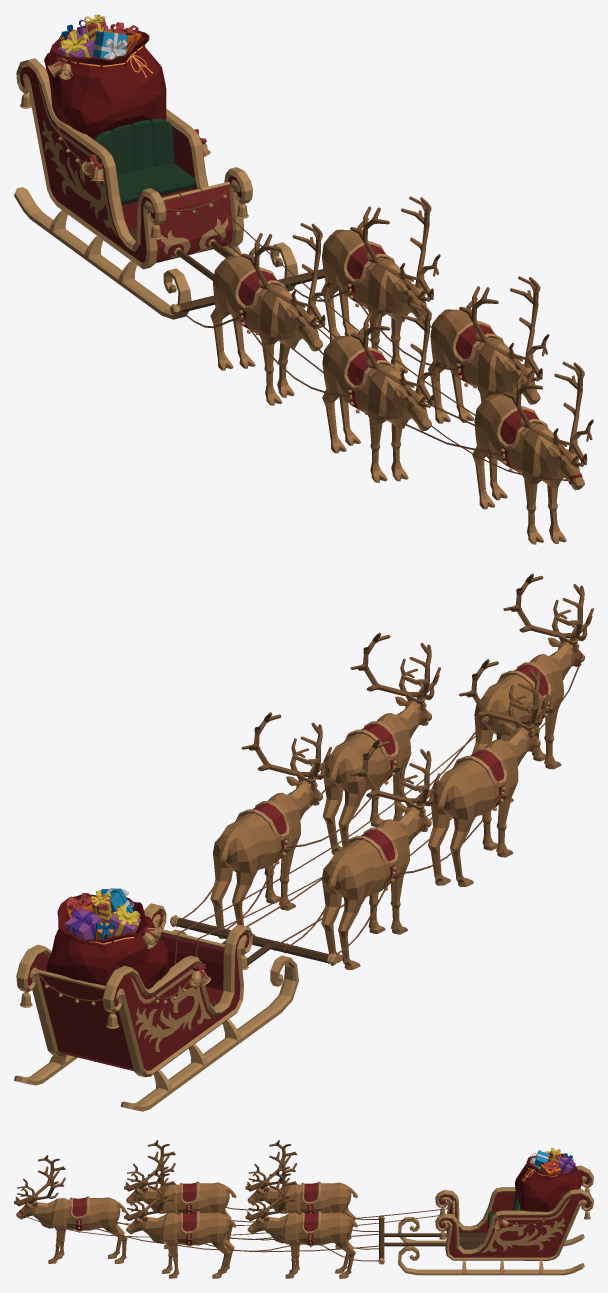
File: sleigh-christmas.glb
3 views of the same model, one above another, from view 1: azimuth 30°, elevation 25°; view 2: azimuth 150°, elevation 25°; view 3: azimuth 270°, elevation 25° (orthographic). The views are drawn at different scales.
Visible parts, largest first — view 1: sleigh_reindeers_wood, sleigh_santa, sleigh_bag; view 2: sleigh_reindeers_wood, sleigh_santa, sleigh_bag; view 3: sleigh_reindeers_wood, sleigh_santa, sleigh_bag.
Boxes of the visible parts, x1,y1,x2,y2 form: sleigh_reindeers_wood: [170, 187, 593, 544]; sleigh_santa: [14, 58, 298, 319]; sleigh_bag: [44, 14, 166, 138]; sleigh_reindeers_wood: [170, 573, 593, 969]; sleigh_santa: [14, 903, 298, 1111]; sleigh_bag: [46, 888, 169, 989]; sleigh_reindeers_wood: [14, 1140, 457, 1278]; sleigh_santa: [398, 1165, 593, 1275]; sleigh_bag: [515, 1148, 581, 1211].
Size of the model in its own units: 2.11 by 2.21 by 10.57.
1 material, 1 textured.
